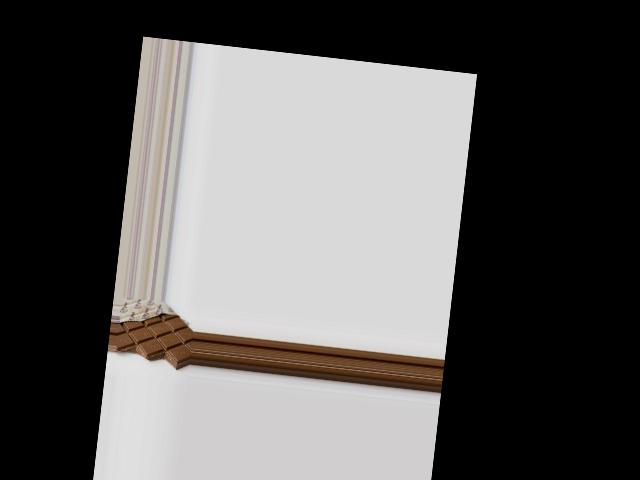chocolate: (114, 297, 195, 365)
